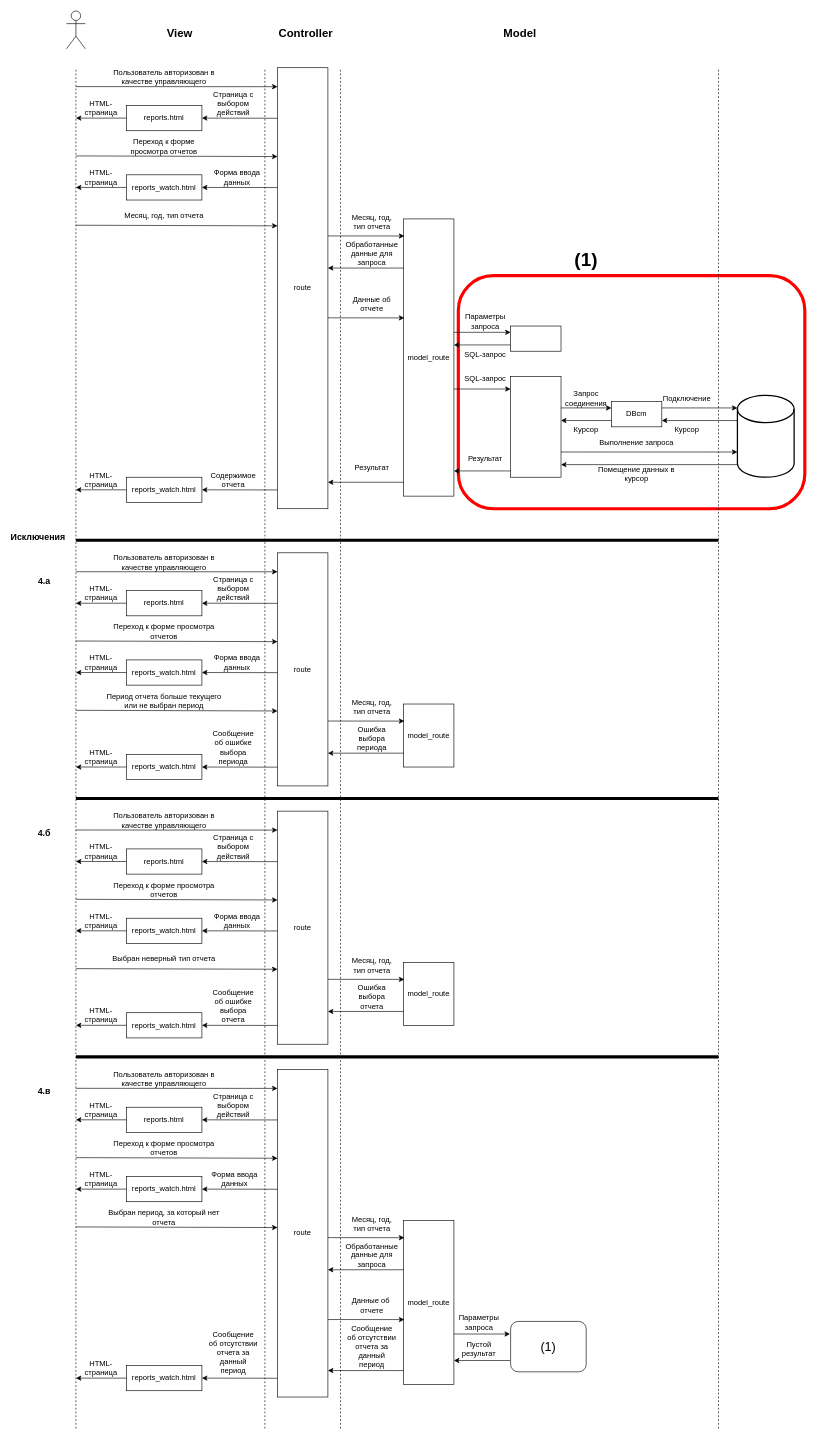
Some shapes in this 817 by 1440 pixel diagram are drawn without their labels. The shapes that lost their labels are listed below. From the top down, each one's centre as x and y in pixels, then its label:
At point (75, 29): "Пользователь".
At point (535, 338): "sql_provider".
At point (535, 426): "select".
At point (765, 436): "СУБД".
